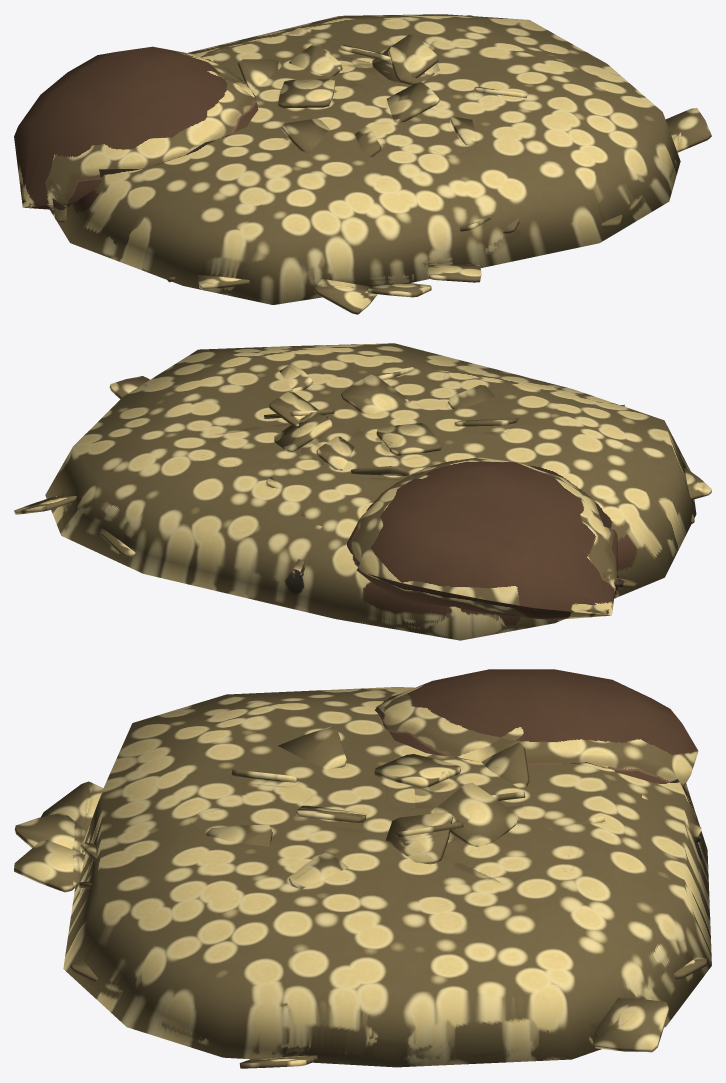
Rendered from SM_Camp_GoldPile.fbx.
3 views of the same model, one above another, from view 1: azimuth 30°, elevation 25°; view 2: azimuth 150°, elevation 25°; view 3: azimuth 270°, elevation 25° (orthographic). The views are drawn at different scales.
Parts seen in each view (by area): view 1: SM_Camp_GoldPile; view 2: SM_Camp_GoldPile; view 3: SM_Camp_GoldPile.
Boxes of the visible parts, x1,y1,x2,y2 form: SM_Camp_GoldPile: (14,14,711,314); SM_Camp_GoldPile: (14,343,711,640); SM_Camp_GoldPile: (14,669,711,1068).
Bounding box in the file's own units: 34.08 × 27.8 × 6.04.
